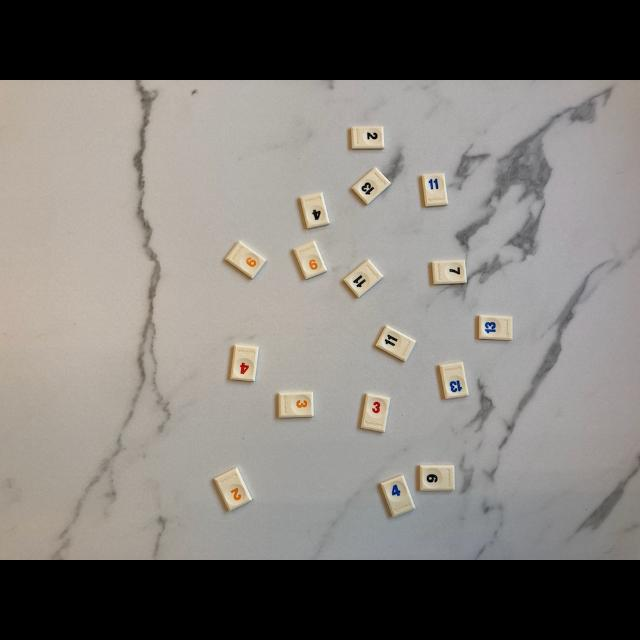black_11: (344, 260, 382, 298), (376, 325, 416, 361)
black_13: (352, 168, 391, 205)
black_2: (350, 126, 384, 149)
black_4: (301, 193, 329, 228)
black_7: (431, 260, 466, 285)
black_9: (419, 465, 455, 491)
blue_11: (421, 174, 447, 206)
blue_13: (439, 362, 468, 399), (479, 316, 512, 339)
blue_4: (380, 475, 415, 518)
orange_2: (214, 468, 251, 511)
orange_3: (279, 392, 314, 418)
orange_9: (225, 241, 266, 279), (294, 241, 326, 279)
red_3: (361, 394, 390, 432)
red_4: (231, 345, 259, 381)
